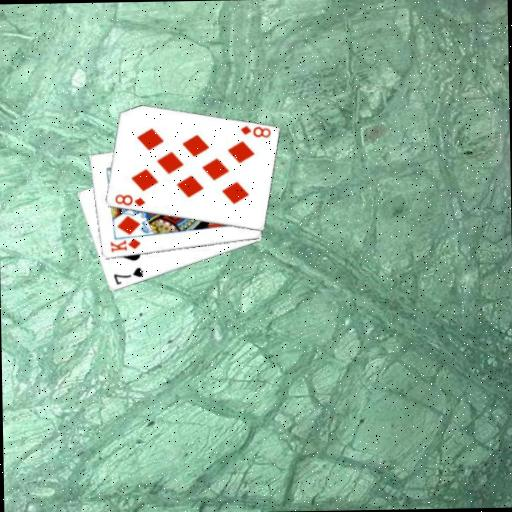7S: (111, 264, 145, 287)
8D: (112, 191, 147, 209), (237, 123, 272, 140)
KD: (107, 235, 143, 254)
